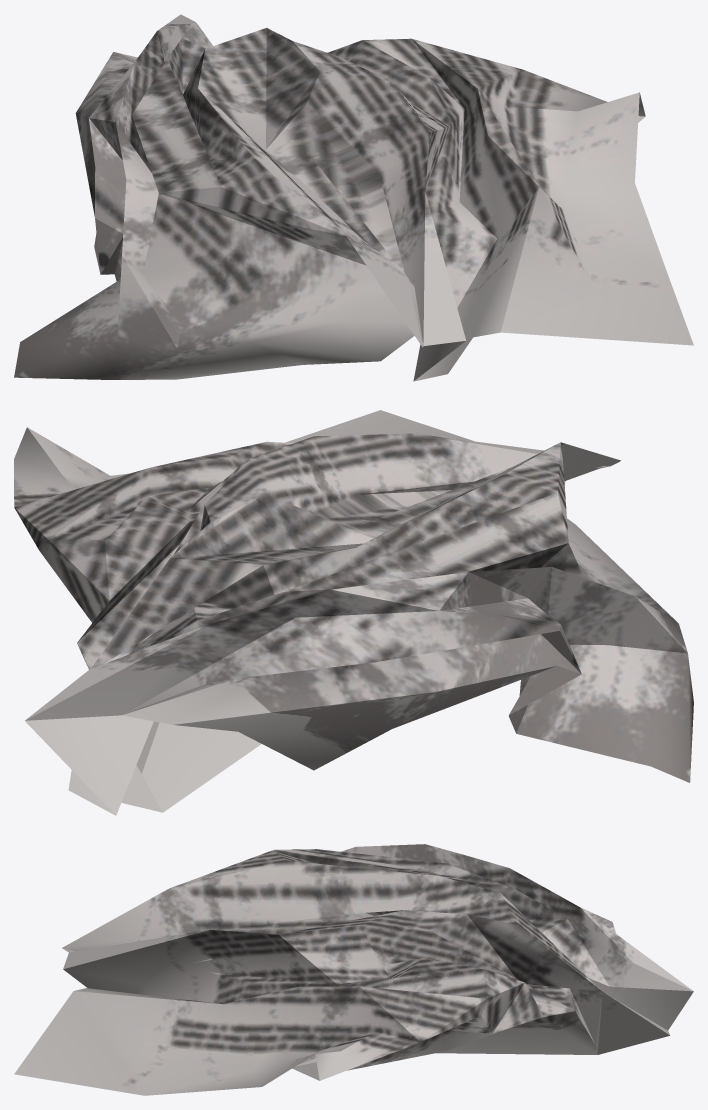
The model's file is Crumpled_Paper_low_crumpled_paper_00.mo.001.fbx.
3 renders of one model, top to bottom at view 1: azimuth 30°, elevation 25°; view 2: azimuth 150°, elevation 25°; view 3: azimuth 270°, elevation 25°, orthographic. The views are drawn at different scales.
Visible parts, largest first — view 1: Crumpled_Paper_low_crumpled_paper_00.mo.001; view 2: Crumpled_Paper_low_crumpled_paper_00.mo.001; view 3: Crumpled_Paper_low_crumpled_paper_00.mo.001.
Boxes of the visible parts, x1,y1,x2,y2 form: Crumpled_Paper_low_crumpled_paper_00.mo.001: (14, 14, 693, 381); Crumpled_Paper_low_crumpled_paper_00.mo.001: (14, 410, 693, 815); Crumpled_Paper_low_crumpled_paper_00.mo.001: (14, 844, 693, 1095).
Size of the model in its own units: 15.63 by 5.03 by 18.22.
